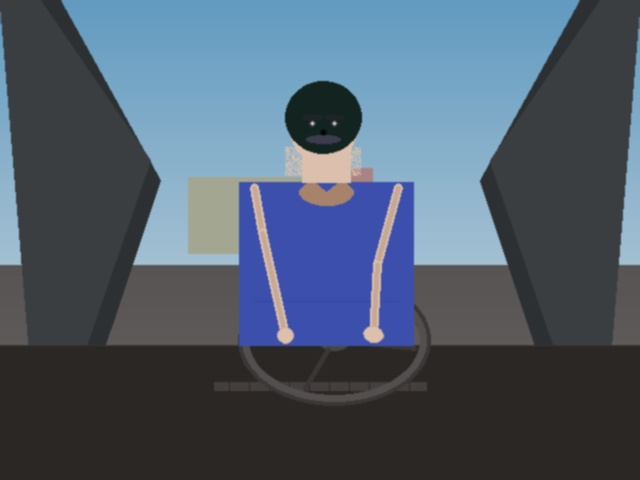normal_driving: (112, 190, 334, 340)
